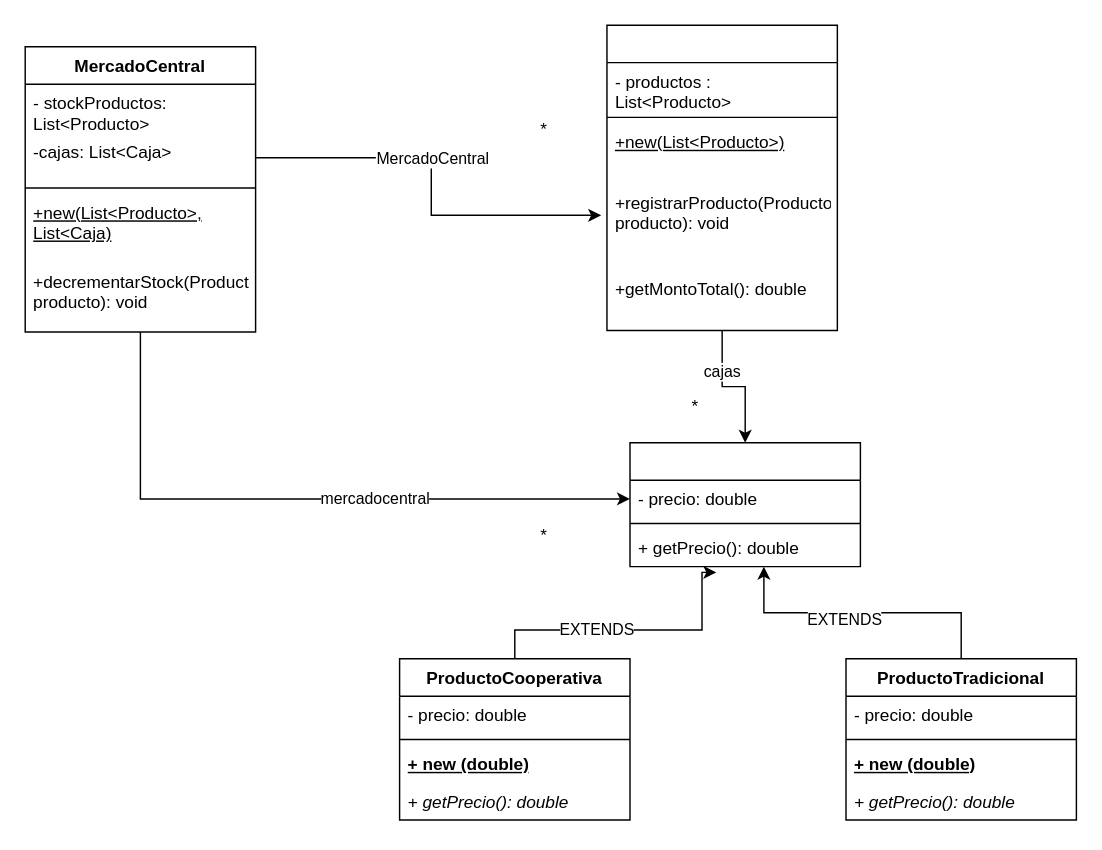
Some shapes in this 1102 by 850 pixel diagram are drawn without their labels. The shapes that lost their labels are listed below. From the top down, each one's box as (x1, y1, x2, y2) in pixels, then its label:
(606, 24, 837, 330): Caja
(629, 441, 860, 567): Producto
